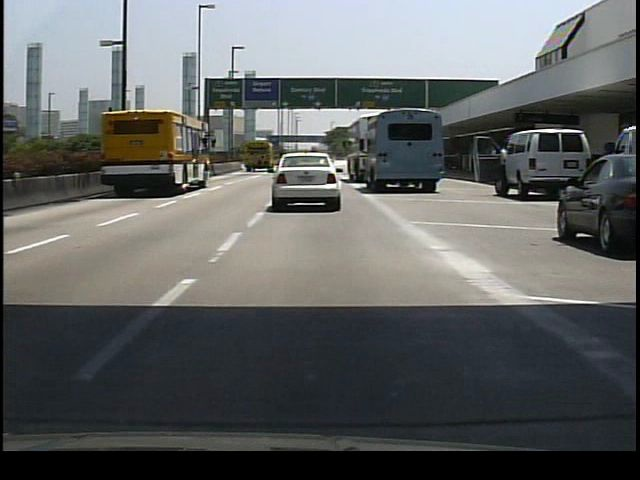person: (494, 137, 512, 207)
